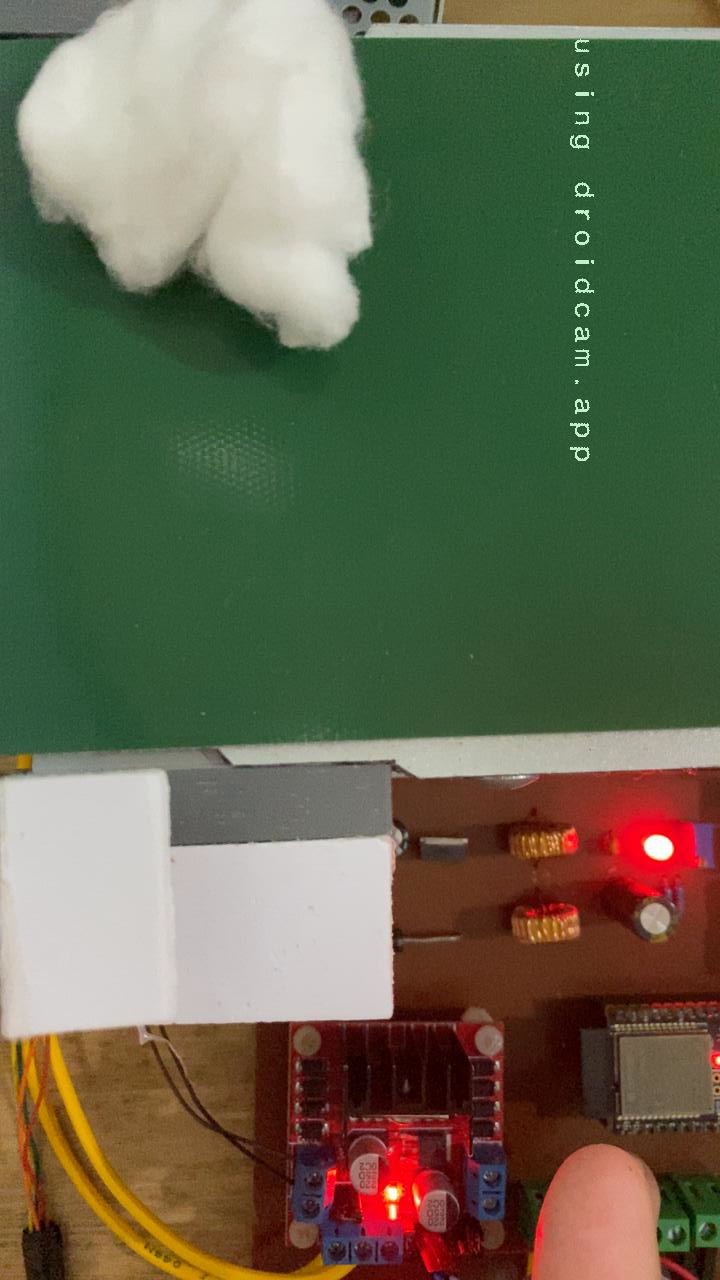cotton: (9, 38, 380, 354)
